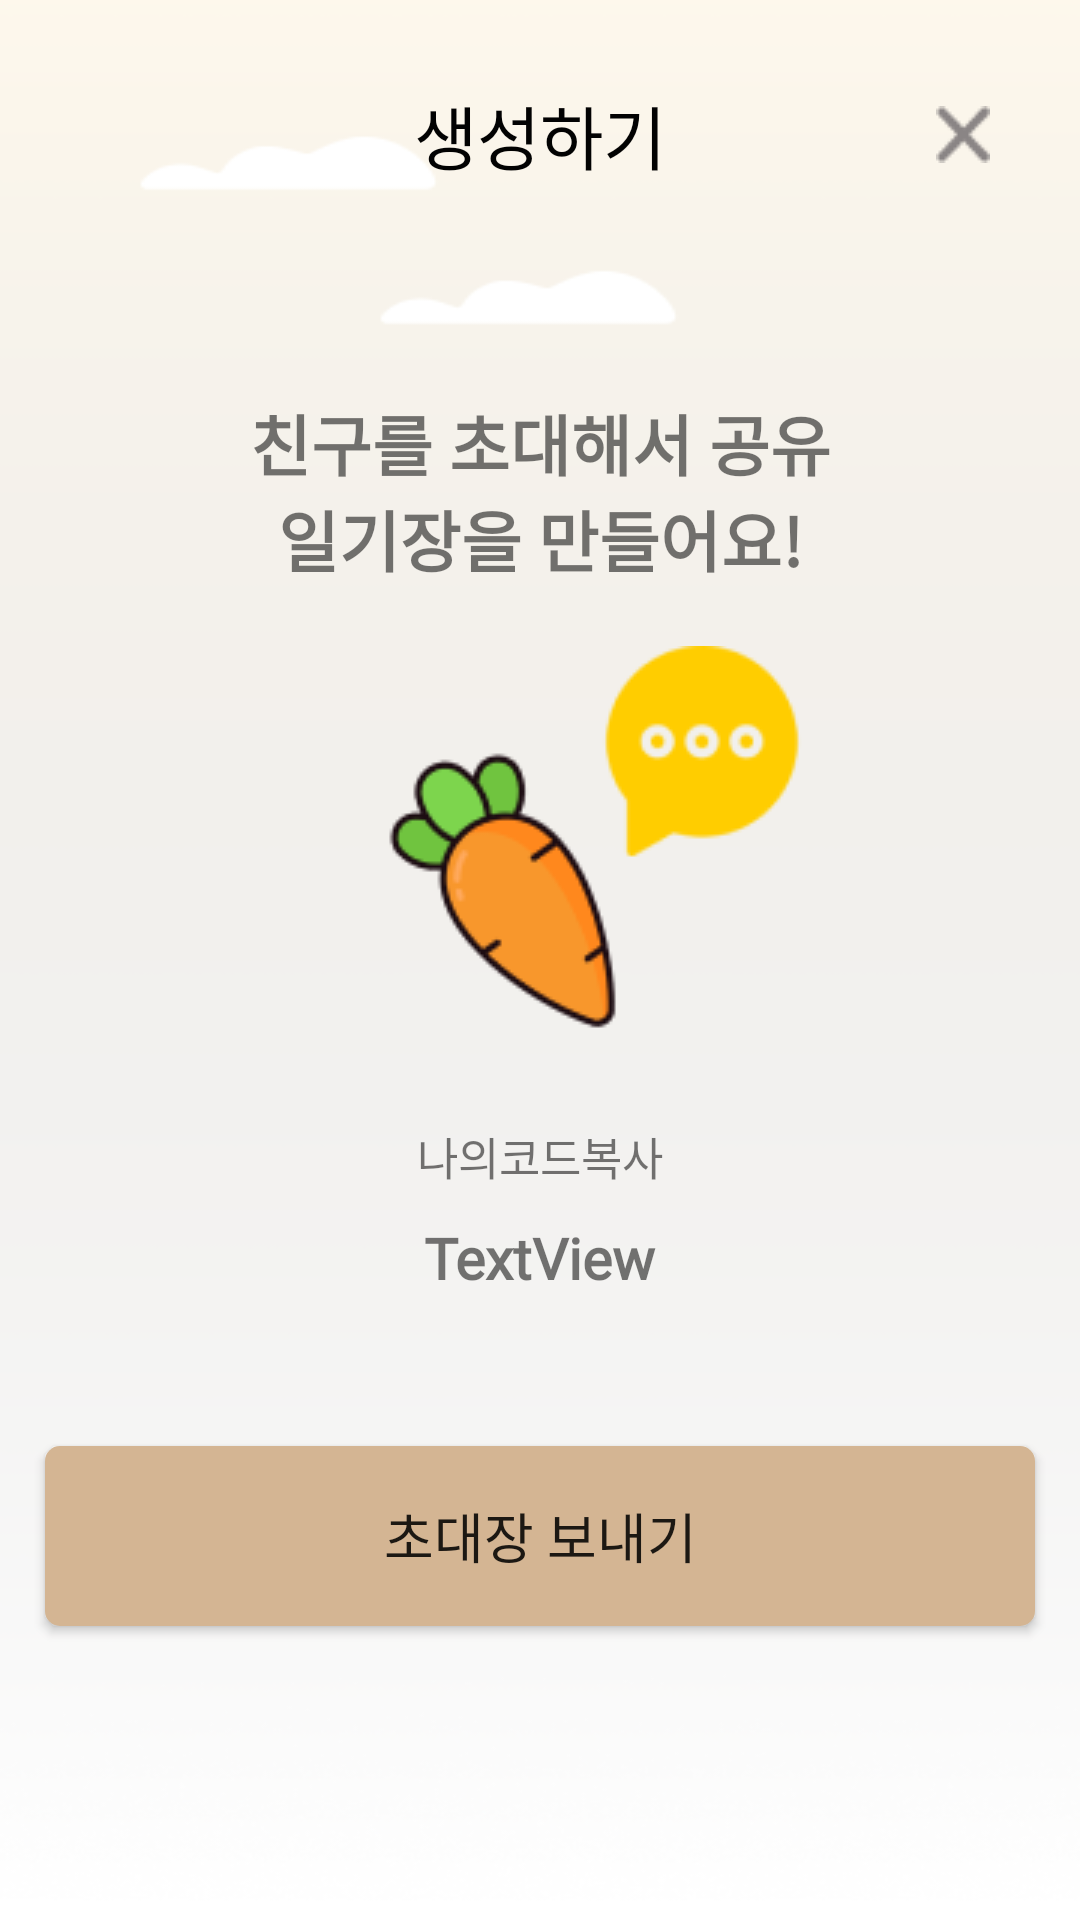

Where icons sit on this 1080 x 1920 app screen, as (x1, y1, x2, y2):
cancel: (936, 106, 990, 163)
